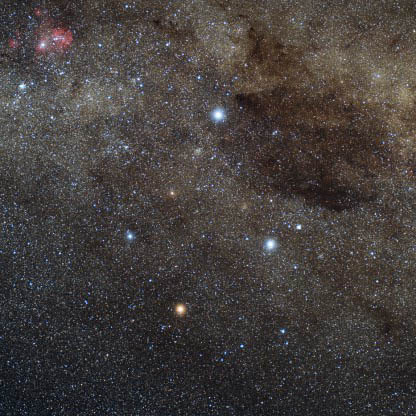Southern Cross: (257, 232, 284, 254), (205, 107, 229, 130), (169, 299, 193, 320), (122, 226, 139, 247)
